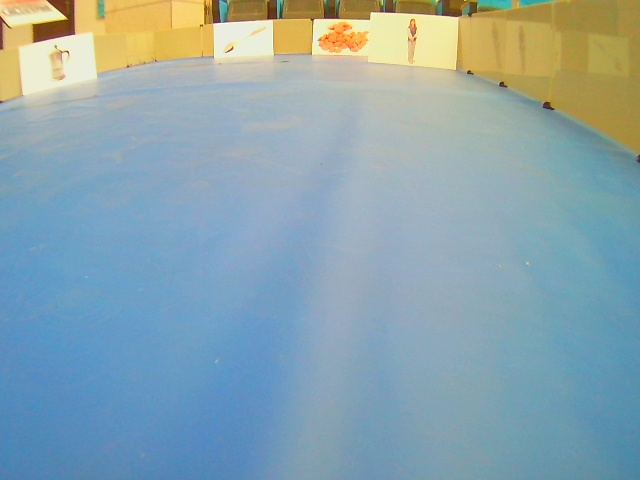dish: (15, 32, 102, 97), (214, 21, 275, 63)
food: (311, 17, 369, 58)
person: (368, 13, 460, 71)
